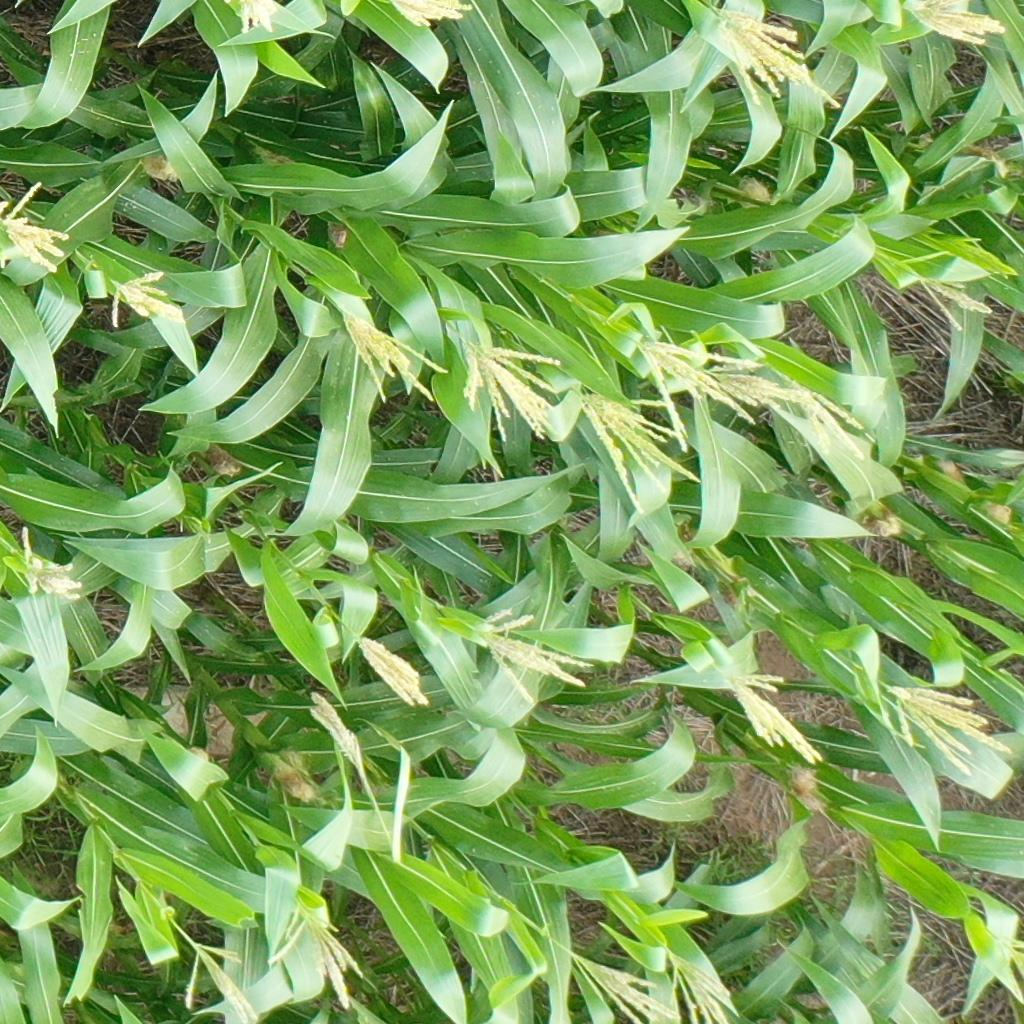Tassel: (569, 385, 702, 511), (637, 334, 763, 454), (711, 5, 846, 113), (473, 605, 593, 712), (883, 684, 1012, 778), (266, 899, 366, 1009), (463, 340, 563, 448), (339, 307, 449, 405), (724, 666, 827, 765), (570, 953, 682, 1024), (783, 375, 870, 459), (1, 179, 72, 274), (188, 943, 259, 1024), (666, 951, 741, 1024), (358, 634, 430, 709), (14, 525, 84, 601), (306, 689, 367, 773), (106, 271, 189, 329), (907, 1, 1007, 47), (705, 364, 807, 408), (921, 277, 992, 332), (389, 1, 473, 29), (227, 1, 284, 35), (1001, 935, 1024, 973)
